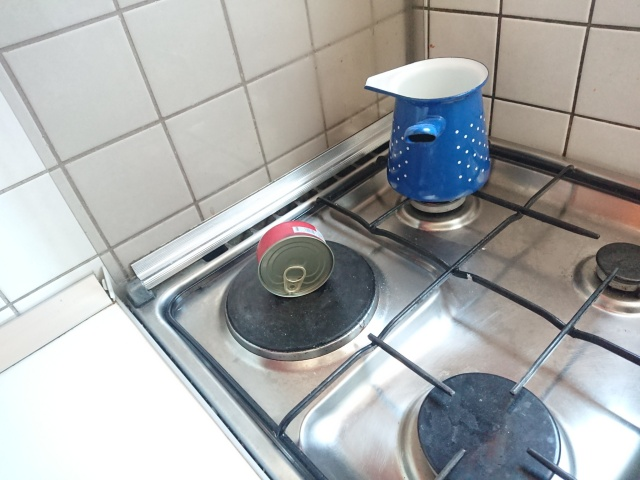Gavrilovic Pork Liver Pate 100g: (254, 218, 336, 299)
